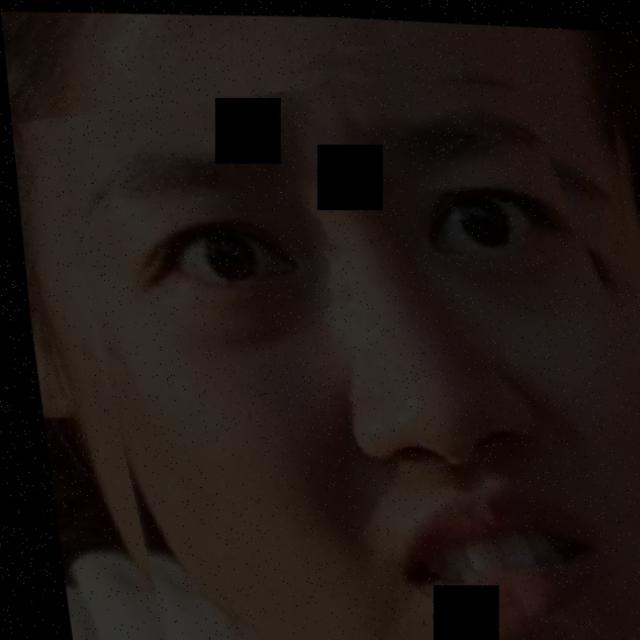Angry: (44, 73, 640, 640)
